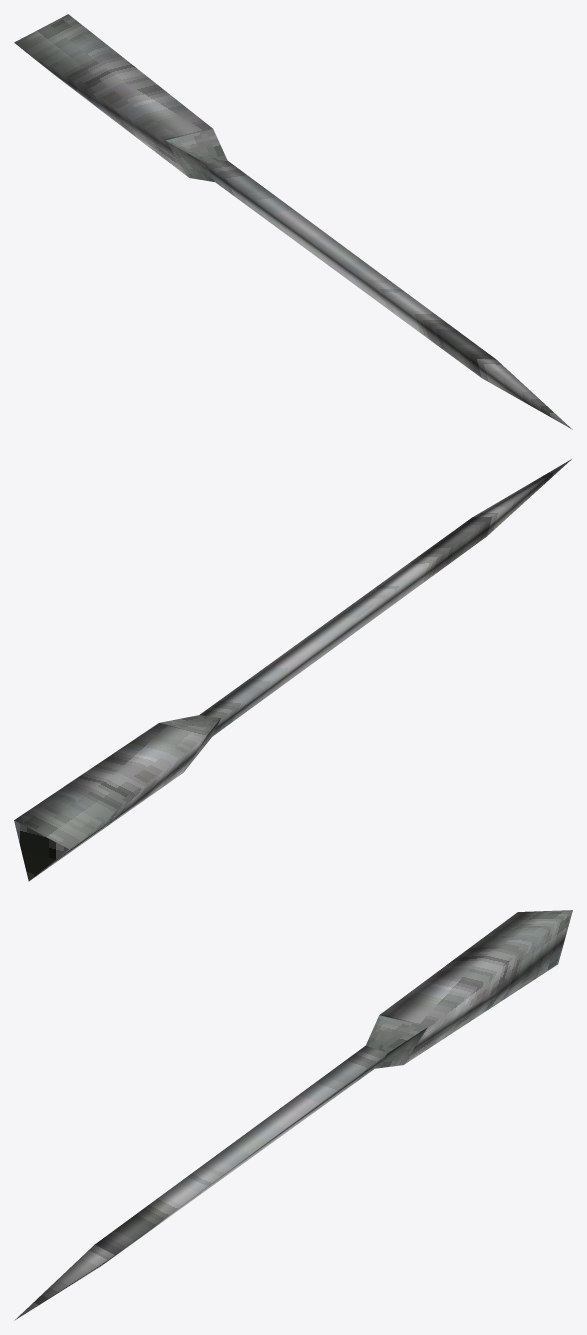
The model's file is bwing_weapon2r_s05_l3.fbx.
3 views of the same model, one above another, from view 1: azimuth 30°, elevation 25°; view 2: azimuth 150°, elevation 25°; view 3: azimuth 330°, elevation 25° (orthographic).
Parts seen in each view (by area): view 1: mesh_node; view 2: mesh_node; view 3: mesh_node.
Boxes of the visible parts, x1,y1,x2,y2 form: mesh_node: (14, 14, 572, 429); mesh_node: (14, 459, 571, 881); mesh_node: (14, 910, 572, 1320).
Bounding box in the file's own units: 0.1872 × 0.184 × 3.09.
Materials: 1 (1 with a texture image).
